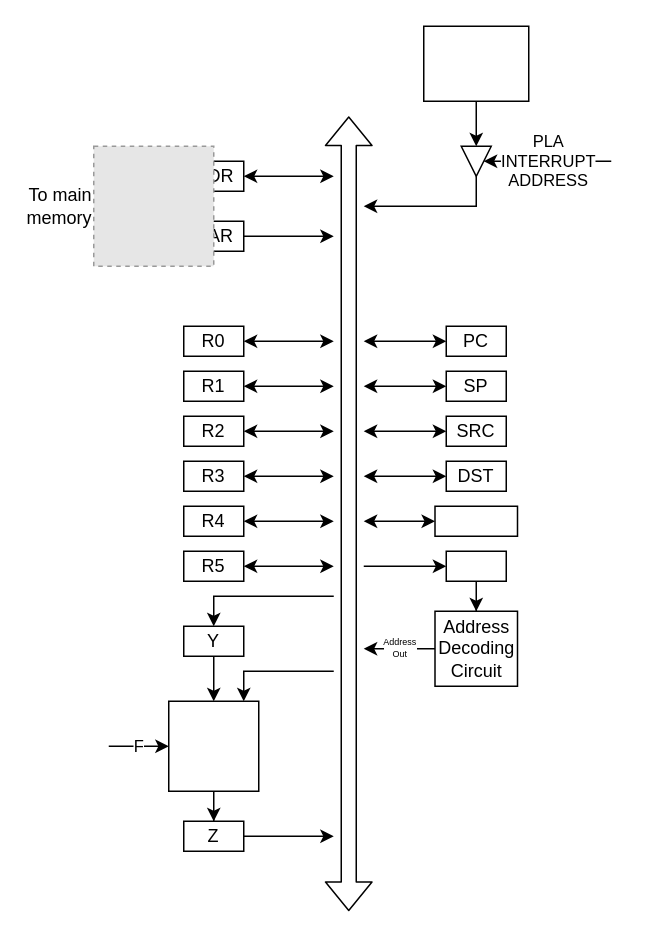
The diagram is 650 pixels wide and 938 high, and some of its shapes have lost their labels. Grey dashed boxes stand in for pictures. The box of each missing label's shape, as (x1, y1, x2, y2) in pixels:
ALU: (167, 700, 259, 791)
Interrupt Address Logic Circuit: (422, 25, 529, 101)
IR: (445, 550, 506, 581)
STATUS: (434, 505, 518, 536)
